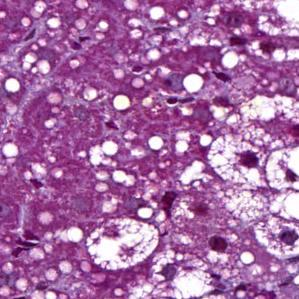ballooning: (86, 217, 159, 273), (206, 131, 273, 190)
